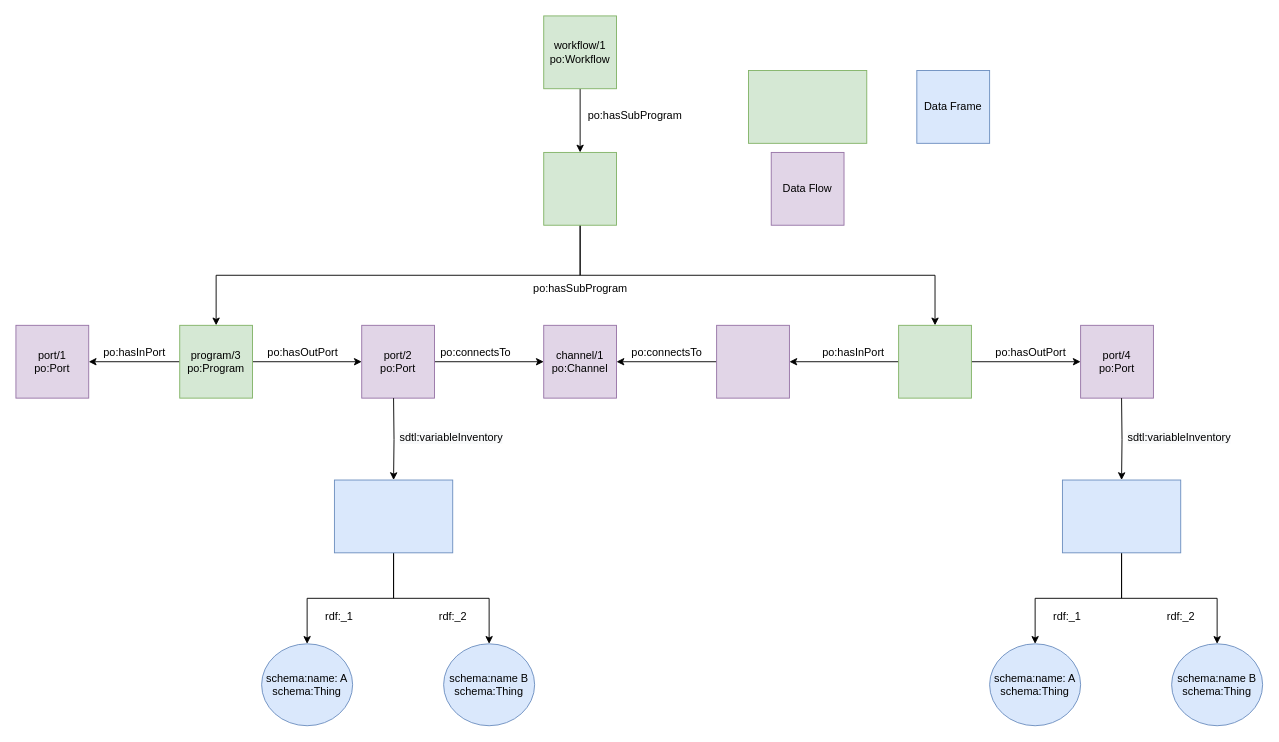
Some shapes in this 1279 by 742 pixel diagram are drawn without their labels. Here are the shapes that lost their labels. From the top down, the box of each, then its label:
(748, 70, 867, 143): Program/Command objects
(543, 152, 617, 225): program/1 po:Program process.py
(716, 324, 789, 398): Port/3 po:Port
(898, 324, 971, 398): program/4 po:Program
(334, 479, 453, 553): variableInventory/1 rdf:Seq sdtl:variableInventory
(1062, 479, 1181, 553): variableInventory/2 rdf:Seq sdtl:variableInventory
